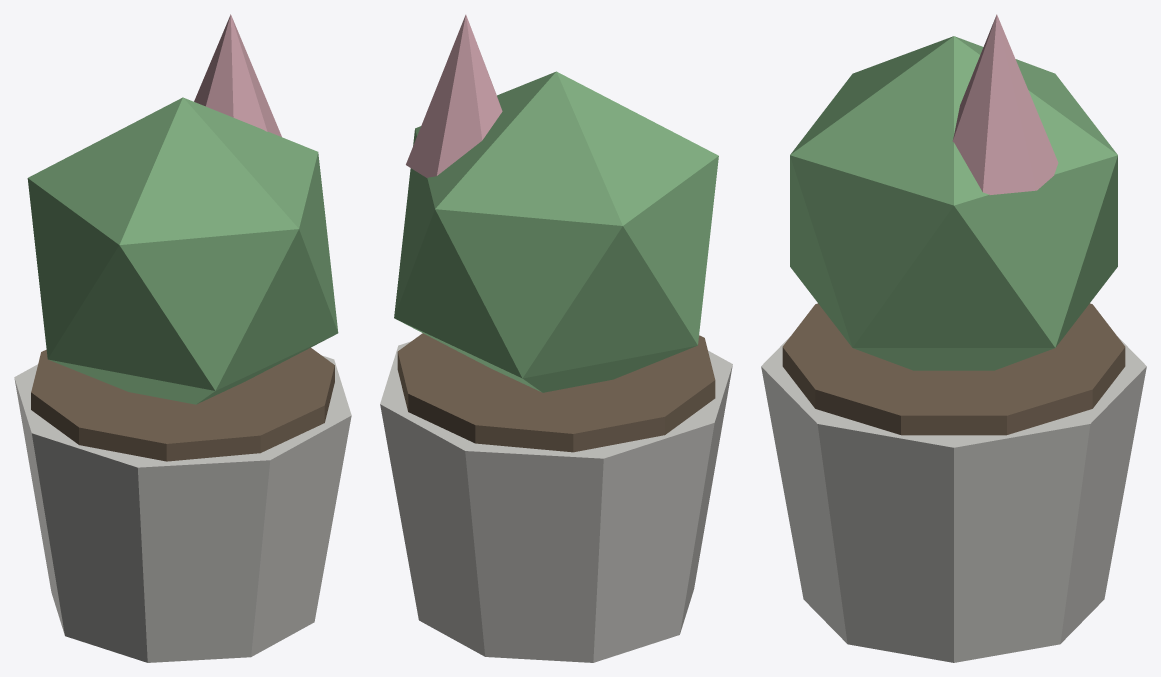
File: pla_centro_mesa.glb
The picture shows the model from 3 angles, left to right: view 1: azimuth 30°, elevation 25°; view 2: azimuth 150°, elevation 25°; view 3: azimuth 270°, elevation 25°; orthographic projection. The views are drawn at different scales.
Visible parts, largest first — view 1: PLA_CENTRO_MESA_v01; view 2: PLA_CENTRO_MESA_v01; view 3: PLA_CENTRO_MESA_v01.
Boxes of the visible parts, x1,y1,x2,y2 form: PLA_CENTRO_MESA_v01: [14, 14, 351, 662]; PLA_CENTRO_MESA_v01: [380, 14, 732, 662]; PLA_CENTRO_MESA_v01: [761, 14, 1146, 662].
Size of the model in its own units: 0.18 by 0.32 by 0.18.
